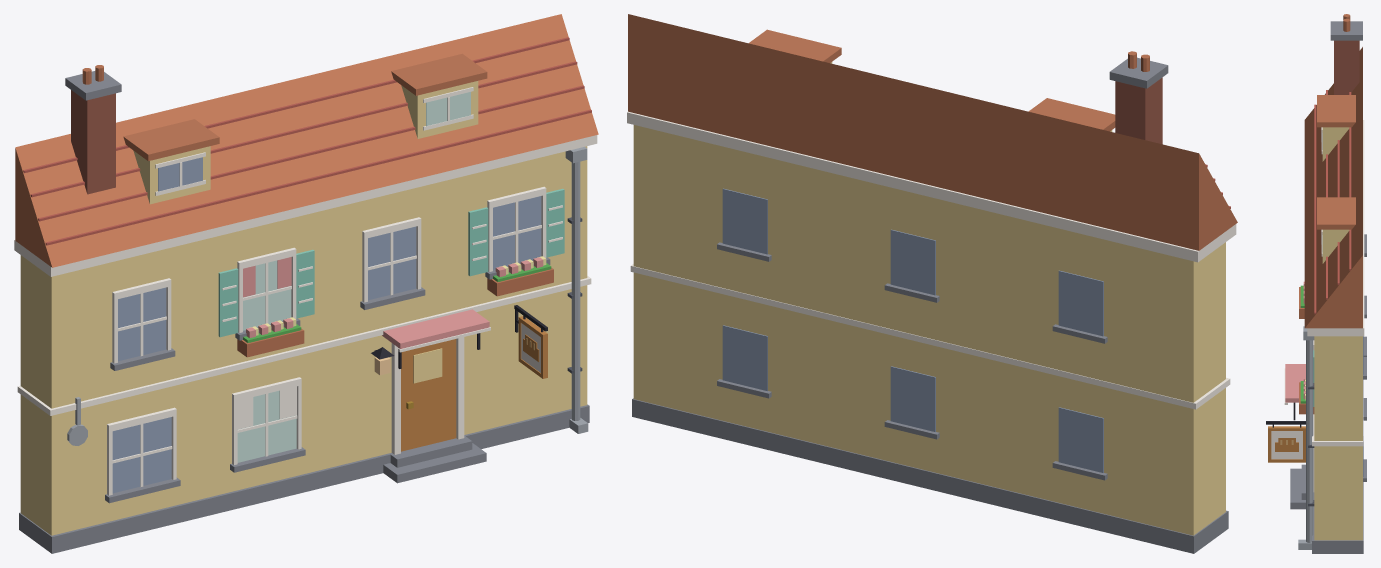
The model's file is CatCafe_Alley_Building_Bakery.glb.
3 views of the same model, side by side, from view 1: azimuth 30°, elevation 25°; view 2: azimuth 150°, elevation 25°; view 3: azimuth 270°, elevation 25° (orthographic). The views are drawn at different scales.
Visible parts, largest first — view 1: CatCafe_Alley_Building_Bakery, CatCafe_Alley_Building_Bakery_Pane, CatCafe_Alley_Building_Bakery_Flowers; view 2: CatCafe_Alley_Building_Bakery; view 3: CatCafe_Alley_Building_Bakery, CatCafe_Alley_Building_Bakery_Flowers.
Boxes of the visible parts, x1,y1,x2,y2 form: CatCafe_Alley_Building_Bakery: (14,14,598,553); CatCafe_Alley_Building_Bakery_Pane: (237,92,470,462); CatCafe_Alley_Building_Bakery_Flowers: (243,256,551,342); CatCafe_Alley_Building_Bakery: (627,14,1237,553); CatCafe_Alley_Building_Bakery: (1266,14,1366,553); CatCafe_Alley_Building_Bakery_Flowers: (1300,281,1305,403).
Bounding box in the file's own units: 30.6 × 24.3 × 6.25.
Materials: 1 (1 with a texture image).
